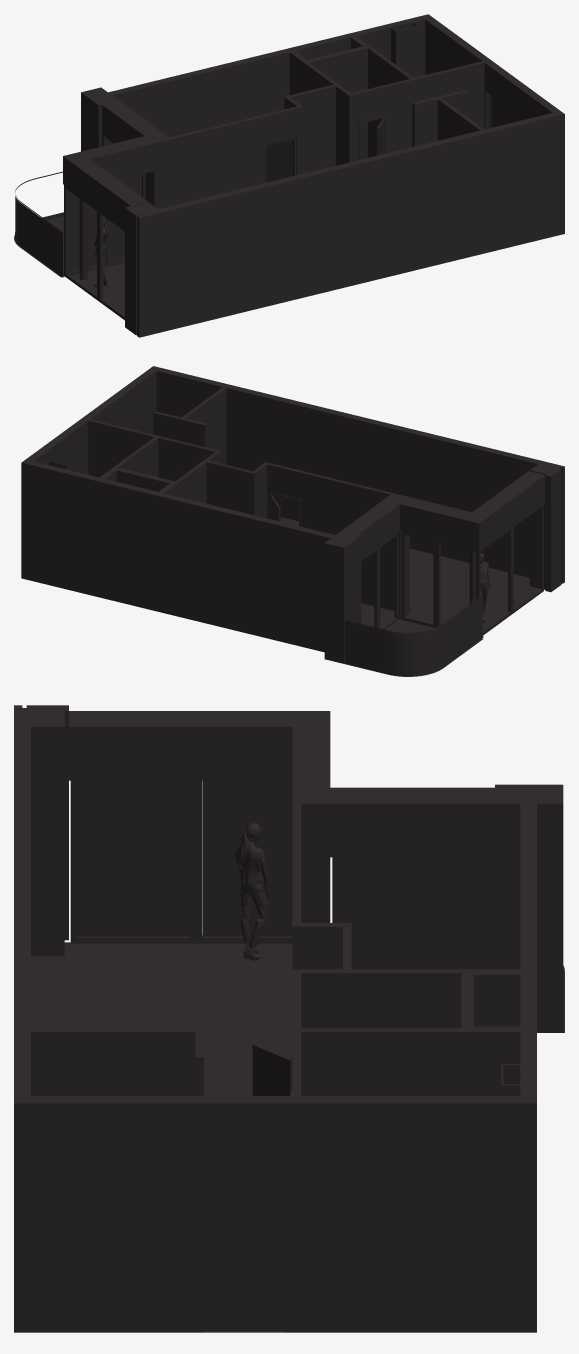
File: 09286c9f96-apartment_a_026_draco-decoded.glb
The picture shows the model from 3 angles, top to bottom: view 1: azimuth 30°, elevation 25°; view 2: azimuth 150°, elevation 25°; view 3: azimuth 270°, elevation 25°; orthographic projection. The views are drawn at different scales.
Parts seen in each view (by area): view 1: apartment_a_026, APTGLAZ; view 2: apartment_a_026, APTGLAZ; view 3: apartment_a_026, APTGLAZ.
Boxes of the visible parts, x1=… form: apartment_a_026: x1=14, y1=14, x2=564, y2=337; APTGLAZ: x1=15, y1=174, x2=141, y2=277; apartment_a_026: x1=21, y1=366, x2=564, y2=676; APTGLAZ: x1=345, y1=596, x2=482, y2=676; apartment_a_026: x1=14, y1=705, x2=564, y2=1332; APTGLAZ: x1=77, y1=780, x2=490, y2=969.
Bounding box in the file's own units: 11.36 × 3 × 6.53.
Materials: 1 (1 with a texture image).
